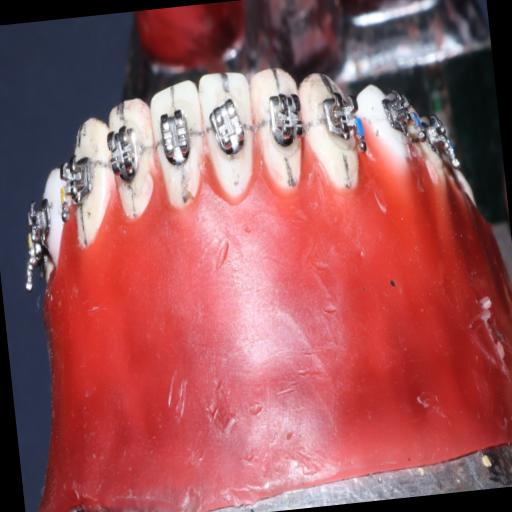incorrect_brace: (208, 102, 245, 156)
